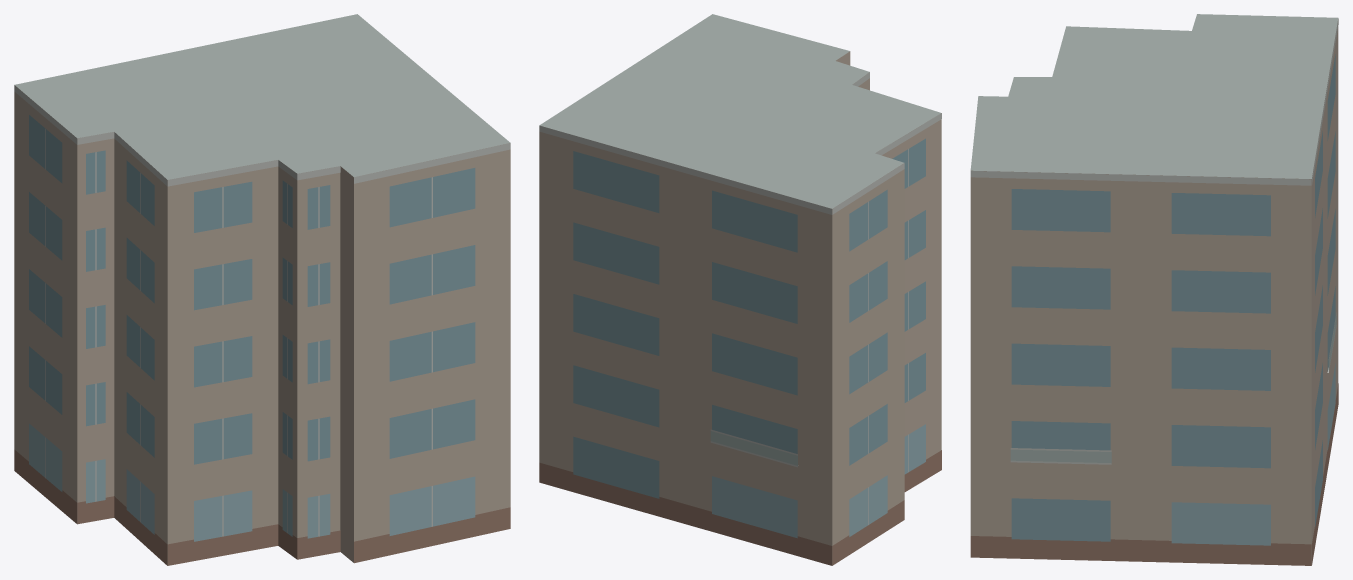
Rendered from survey-upis-32951039.glb.
The picture shows the model from 3 angles, left to right: view 1: azimuth 30°, elevation 25°; view 2: azimuth 150°, elevation 25°; view 3: azimuth 270°, elevation 25°; orthographic projection. The views are drawn at different scales.
Parts seen in each view (by area): view 1: survey-upis-32951039.tmp; view 2: survey-upis-32951039.tmp; view 3: survey-upis-32951039.tmp.
Part boxes in pixels (bbox=[...]): survey-upis-32951039.tmp: bbox=[14, 14, 510, 565]; survey-upis-32951039.tmp: bbox=[539, 14, 941, 565]; survey-upis-32951039.tmp: bbox=[970, 14, 1338, 565].
Size of the model in its own units: 13.01 by 14.2 by 12.25.
